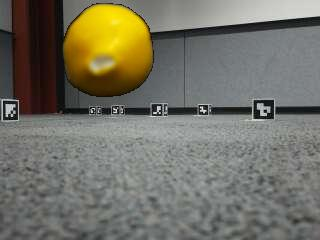lemon: (67, 4, 155, 97)
